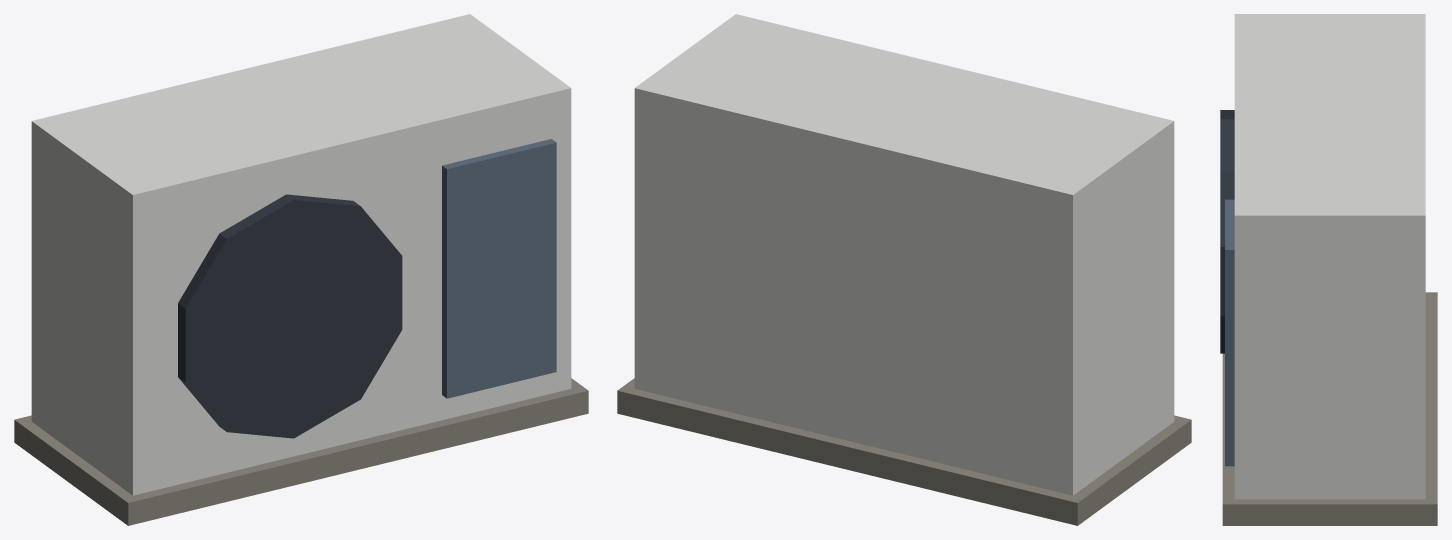
File: city_rooftop_ac_unit.glb
3 renders of one model, left to right at view 1: azimuth 30°, elevation 25°; view 2: azimuth 150°, elevation 25°; view 3: azimuth 270°, elevation 25°, orthographic. The views are drawn at different scales.
Parts seen in each view (by area): view 1: city_rooftop_ac_unit_white, city_rooftop_ac_unit_steelDark, city_rooftop_ac_unit_steel, city_rooftop_ac_unit_concreteDark; view 2: city_rooftop_ac_unit_white, city_rooftop_ac_unit_concreteDark; view 3: city_rooftop_ac_unit_white, city_rooftop_ac_unit_concreteDark, city_rooftop_ac_unit_steel, city_rooftop_ac_unit_steelDark.
Boxes of the visible parts, left/top/right/bottom form: city_rooftop_ac_unit_white: left=31, top=14, right=571, bottom=495; city_rooftop_ac_unit_steelDark: left=178, top=194, right=402, bottom=438; city_rooftop_ac_unit_steel: left=442, top=139, right=556, bottom=398; city_rooftop_ac_unit_concreteDark: left=14, top=378, right=588, bottom=525; city_rooftop_ac_unit_white: left=634, top=14, right=1174, bottom=495; city_rooftop_ac_unit_concreteDark: left=617, top=378, right=1191, bottom=525; city_rooftop_ac_unit_white: left=1234, top=14, right=1425, bottom=499; city_rooftop_ac_unit_concreteDark: left=1222, top=292, right=1437, bottom=525; city_rooftop_ac_unit_steel: left=1225, top=199, right=1234, bottom=466; city_rooftop_ac_unit_steelDark: left=1220, top=110, right=1234, bottom=353.
Bounding box in the file's own units: 1.05 × 0.705 × 0.455.
